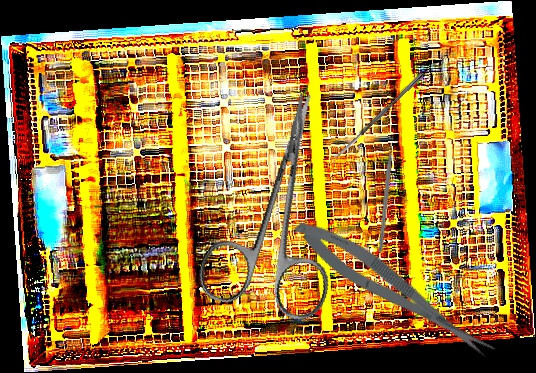Chopper: (377, 135, 402, 254)
Iris Scissors: (193, 78, 374, 326)
Micro Scissor: (287, 208, 500, 373)
Surgical Spoon: (330, 70, 426, 163)
